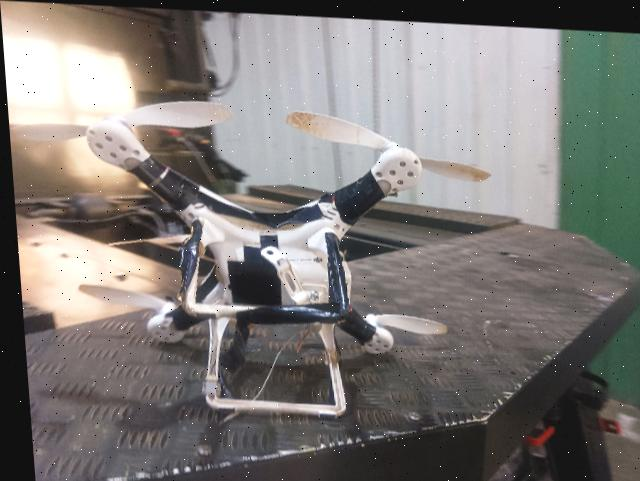drone: (6, 87, 527, 438)
